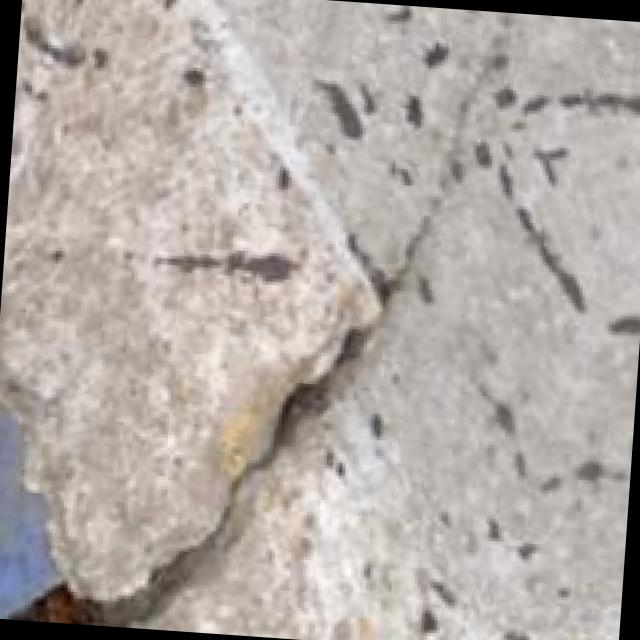crack: (29, 58, 496, 640)
